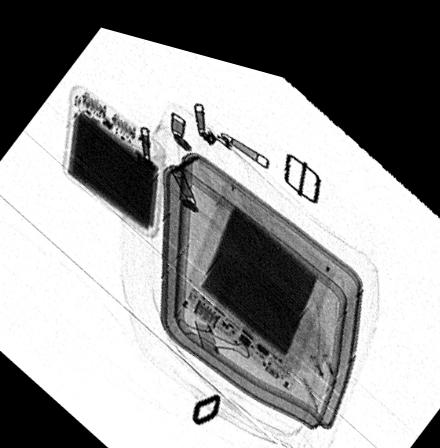Powerbank: (178, 169, 334, 377), (61, 77, 166, 230)
